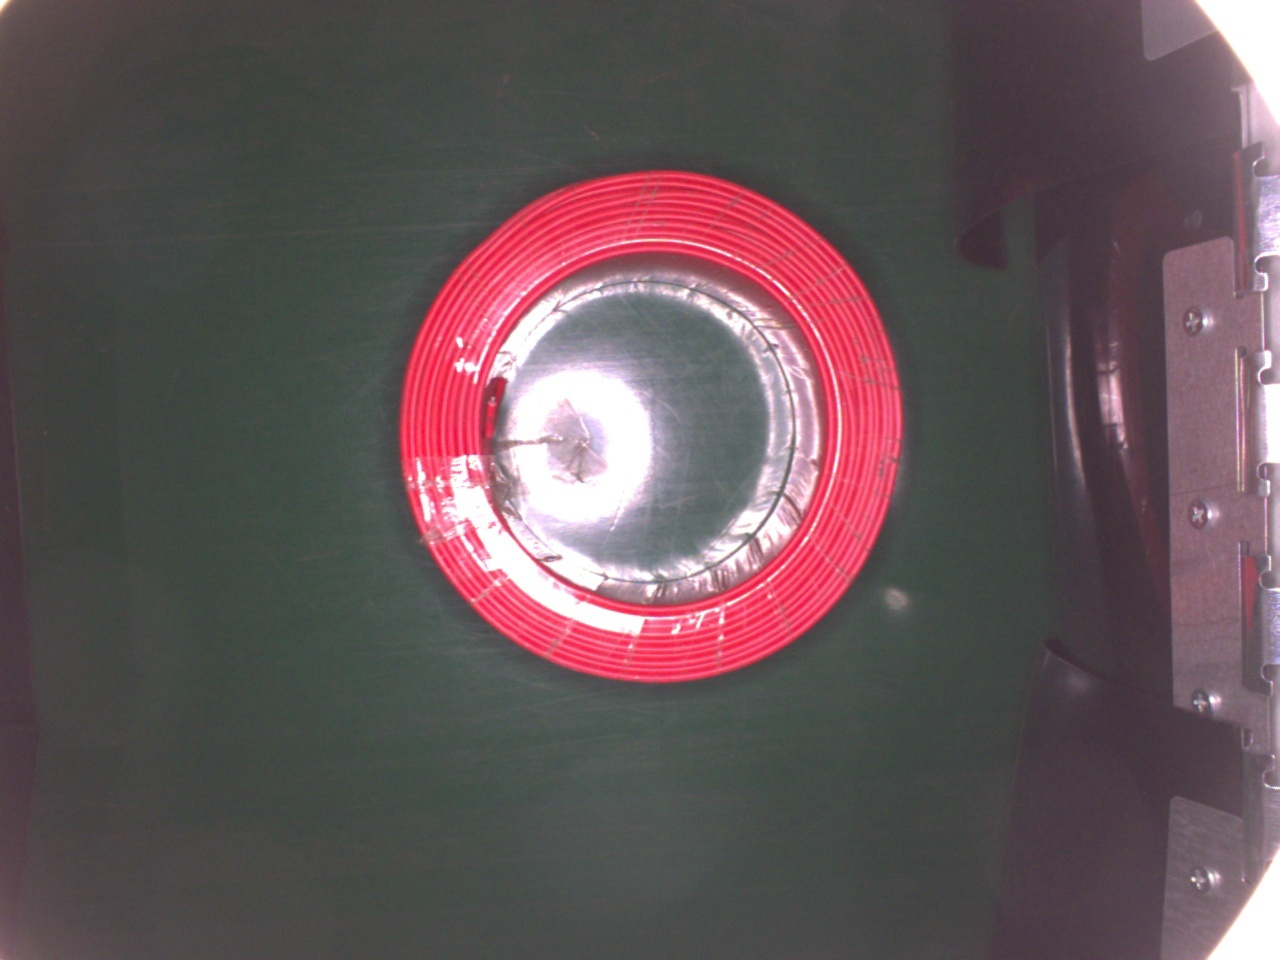red: (394, 167, 909, 686)
